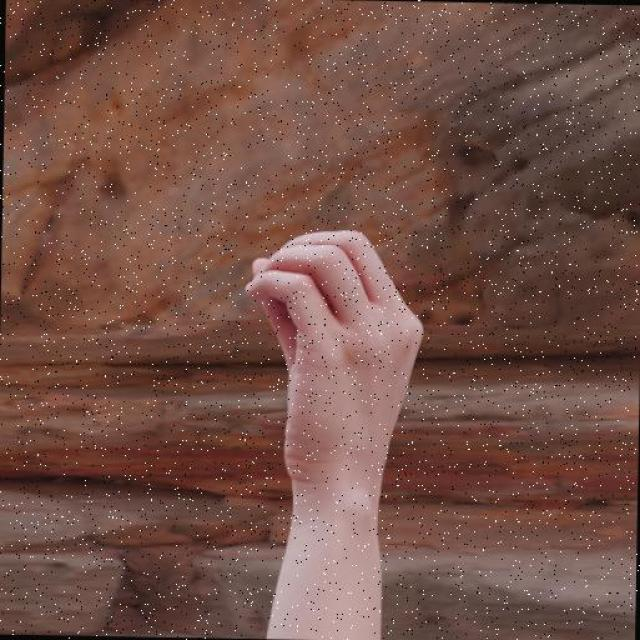O: (239, 222, 426, 494)
